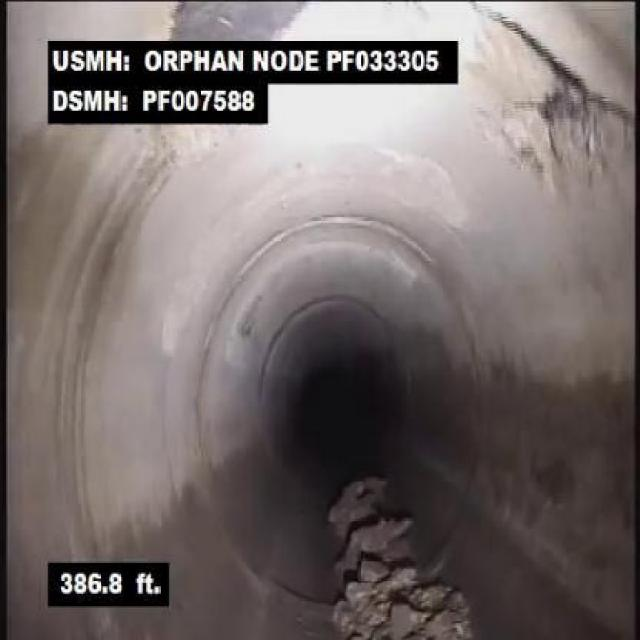Debris: (326, 551, 494, 638)
Hole: (466, 6, 639, 180)
